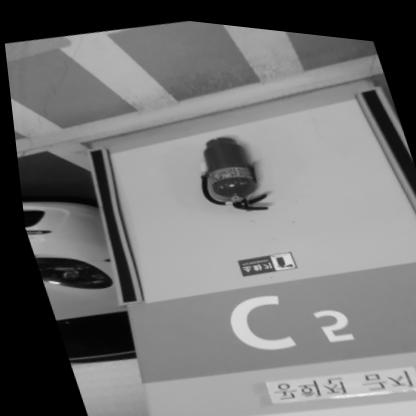FE: (180, 122, 269, 218)
